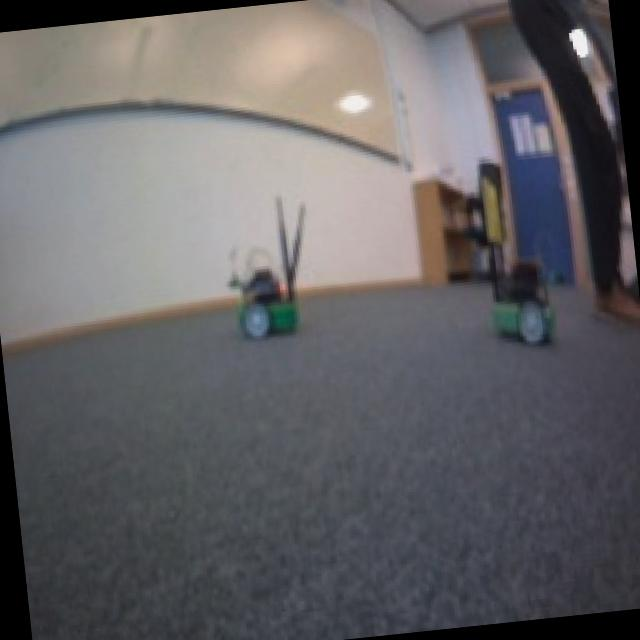robot: (482, 258, 564, 352), (225, 260, 305, 342)
